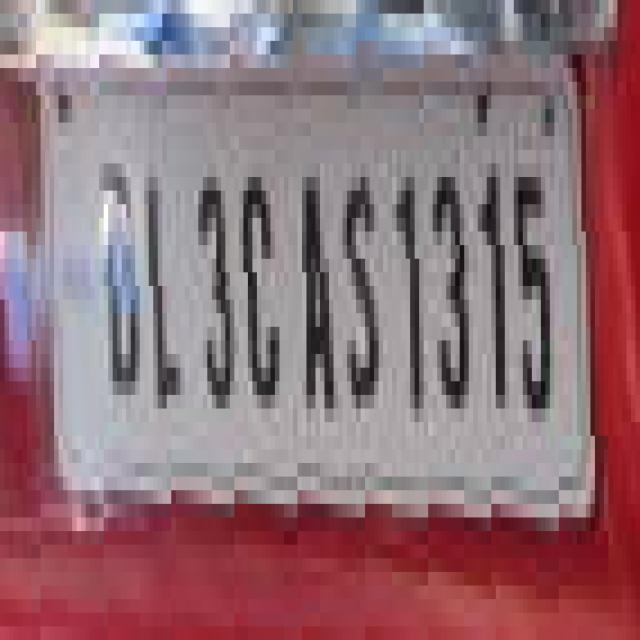license_plate: (32, 68, 636, 518)
